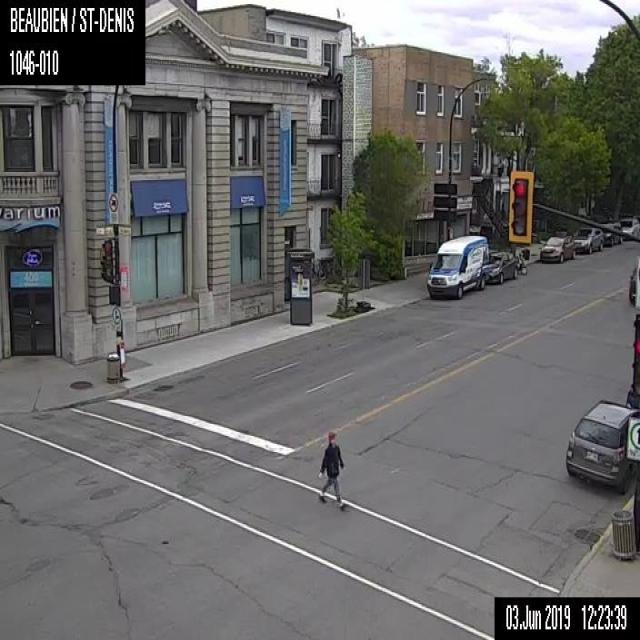pedestrian: (318, 429, 347, 508)
vehicle: (564, 382, 639, 494), (426, 230, 488, 298), (538, 234, 575, 262), (487, 250, 516, 283), (574, 226, 603, 254), (602, 221, 622, 245), (618, 216, 639, 237), (516, 251, 526, 274)
